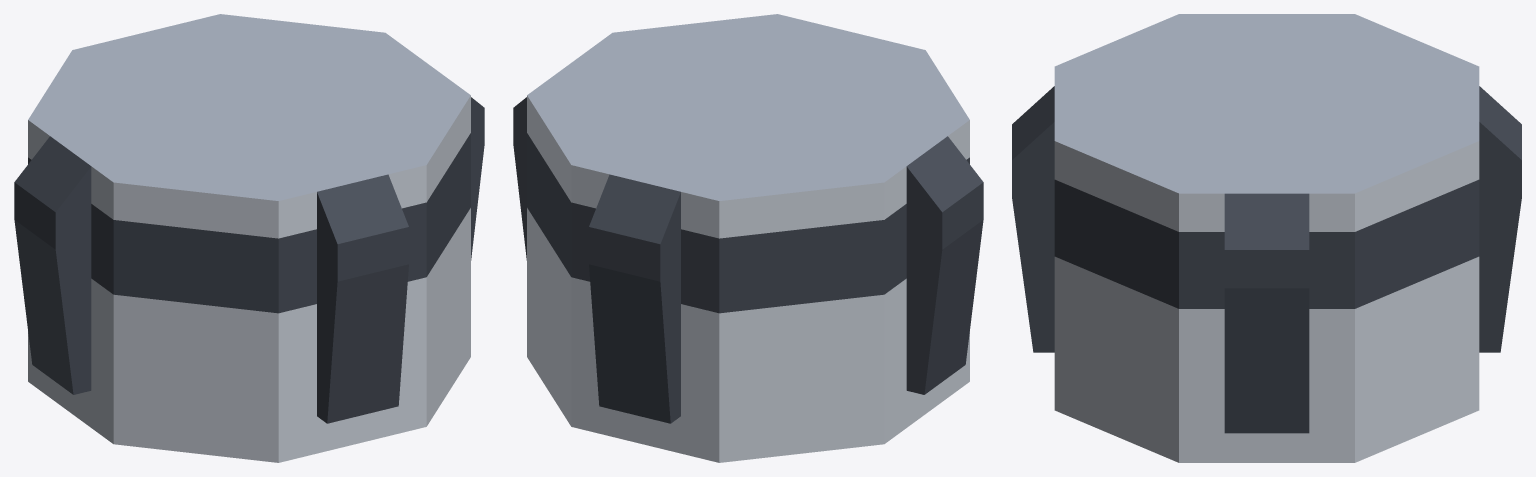
The model's file is rocket_finsA.glb.
3 renders of one model, left to right at view 1: azimuth 30°, elevation 25°; view 2: azimuth 150°, elevation 25°; view 3: azimuth 270°, elevation 25°, orthographic. The views are drawn at different scales.
Parts seen in each view (by area): view 1: rocket_finsA; view 2: rocket_finsA; view 3: rocket_finsA.
Part boxes in pixels (x1,y1,x2,y2): rocket_finsA: (14, 14, 484, 462); rocket_finsA: (513, 14, 983, 462); rocket_finsA: (1012, 14, 1521, 462).
Bounding box in the file's own units: 1.2 × 0.7 × 1.2.
